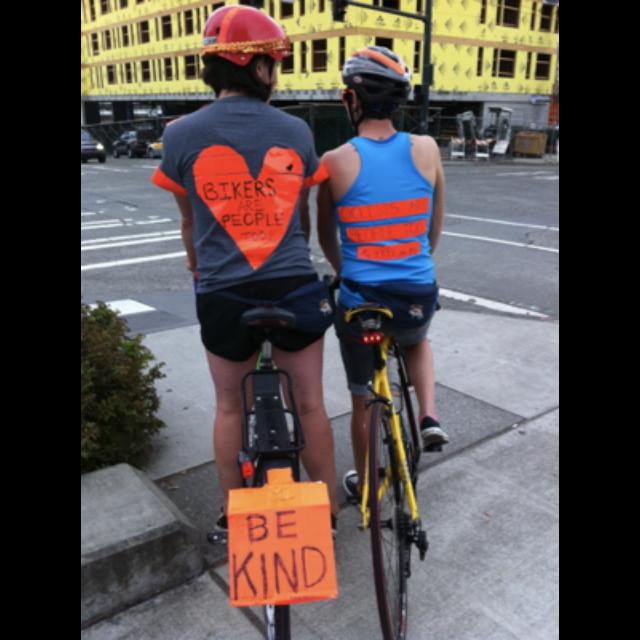With Helmet: (199, 3, 289, 101), (344, 41, 414, 123)
